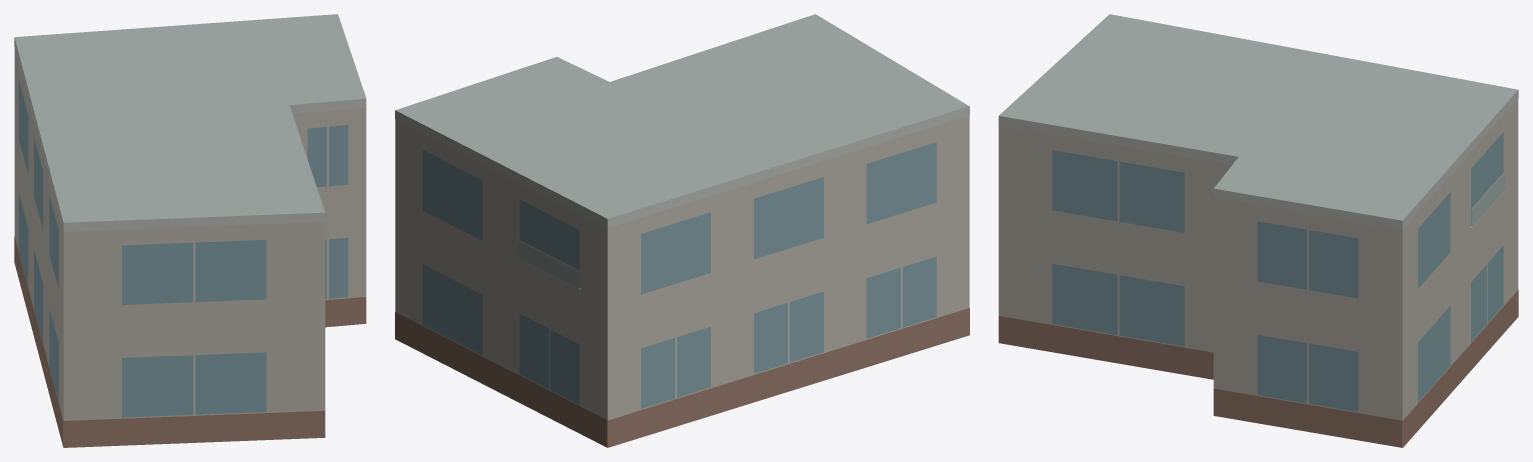
File: survey-upis-32526882.glb
3 views of the same model, side by side, from view 1: azimuth 30°, elevation 25°; view 2: azimuth 150°, elevation 25°; view 3: azimuth 270°, elevation 25° (orthographic).
Parts seen in each view (by area): view 1: survey-upis-32526882.tmp; view 2: survey-upis-32526882.tmp; view 3: survey-upis-32526882.tmp.
Boxes of the visible parts, x1=… form: survey-upis-32526882.tmp: x1=14, y1=14, x2=366, y2=447; survey-upis-32526882.tmp: x1=395, y1=14, x2=969, y2=447; survey-upis-32526882.tmp: x1=998, y1=14, x2=1518, y2=447.
Size of the model in its own units: 11.91 by 6.1 by 12.66.
